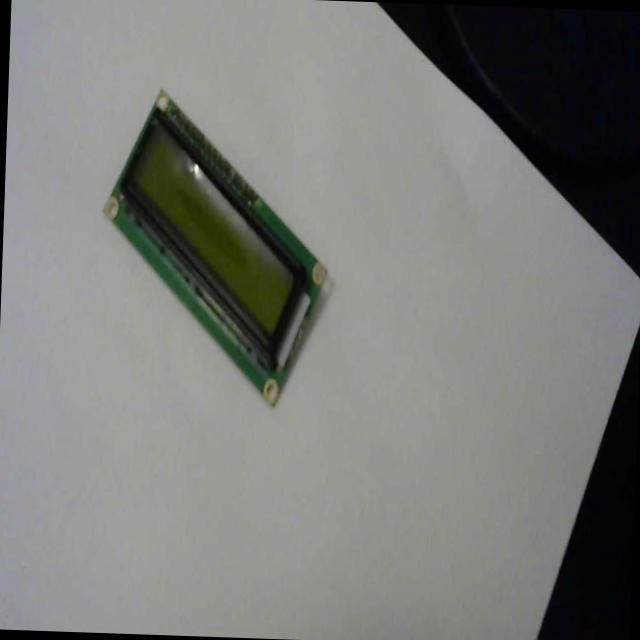lcd: (96, 83, 334, 410)
